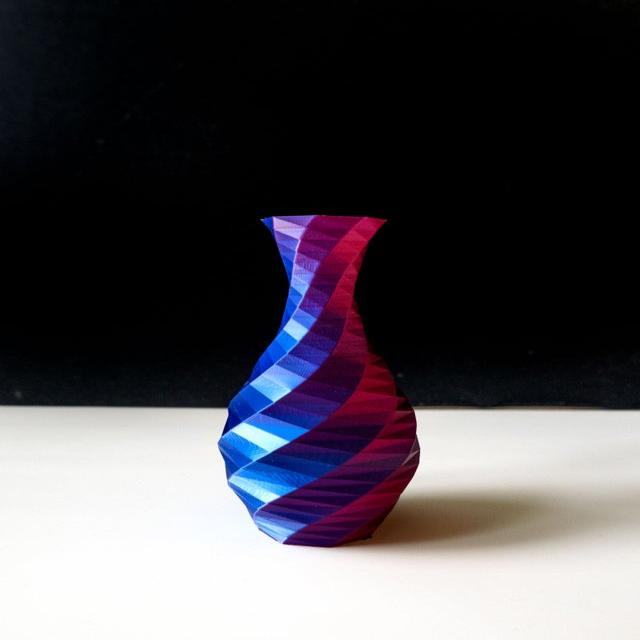Without deffect: (215, 199, 429, 552)
